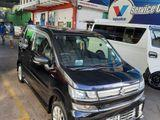car: (12, 24, 146, 120)
